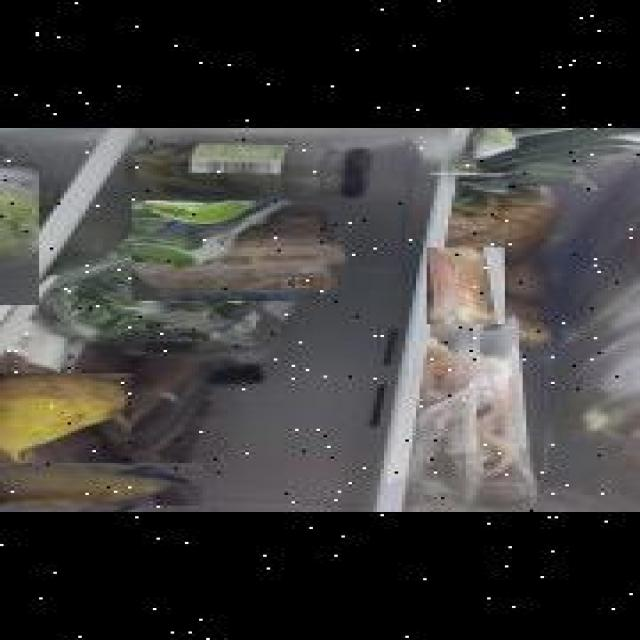bread: (128, 200, 348, 301)
cheese: (422, 248, 499, 324)
pear: (0, 374, 128, 472), (0, 463, 199, 506)
pineapple: (430, 128, 640, 265)
salad: (0, 162, 121, 305)
